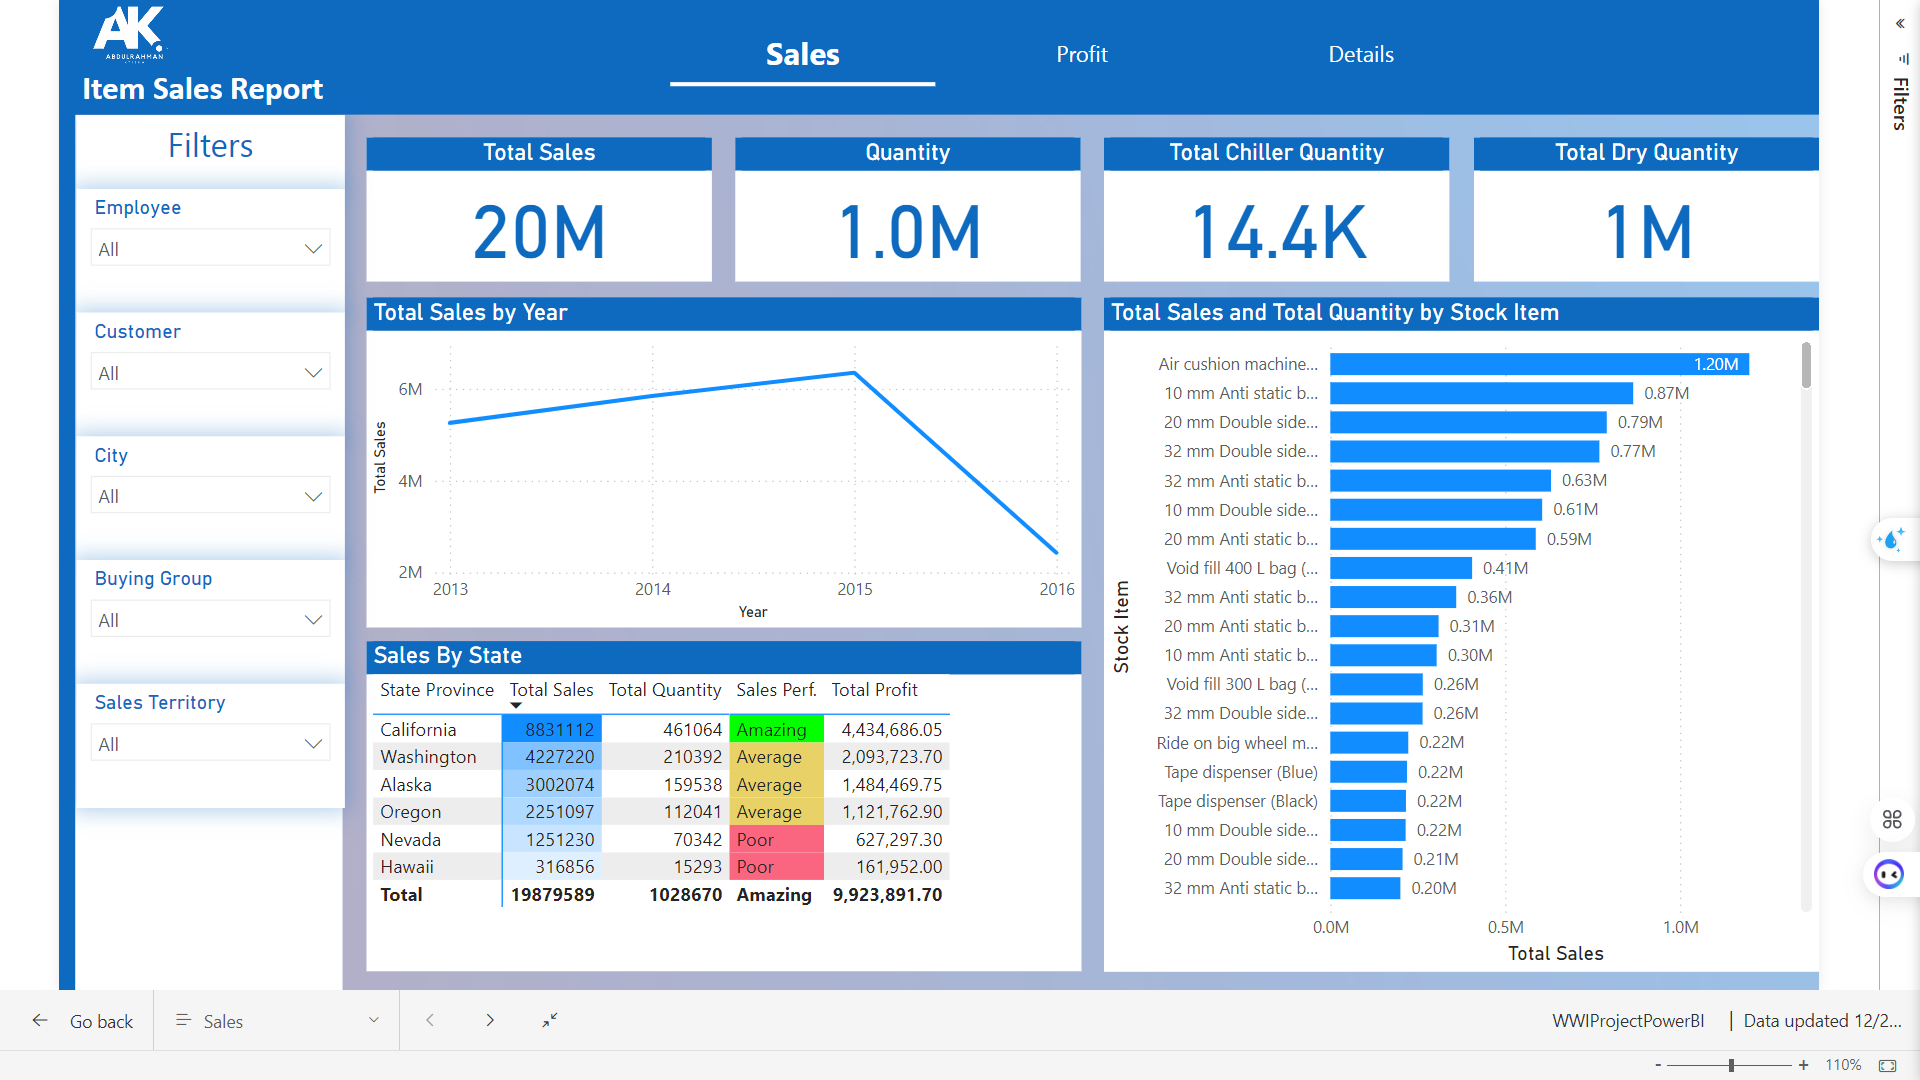

The page's visual inventory and layout, read from the dashboard file:
{"tool":"powerbi","page":{"name":"Sales","canvas":[1280,720],"ordinal":0},"visuals":[{"type":"shape","box":[0,0,1280,83.3],"z":0},{"type":"shape","box":[0,53.3,12.2,666.7],"z":1000},{"type":"shape","box":[12.2,83.3,194.4,636.7],"z":2000},{"type":"textbox","box":[12.2,43.3,252.2,40],"z":3000},{"type":"image","box":[0,0,110,53.3],"z":4000},{"type":"card","title":"Total Sales","fields":{"Values":["Sum(FactSale.Total Excluding Tax)"]},"box":[223.8,100,251.2,105],"z":5000},{"type":"card","title":"Total Dry Quantity","fields":{"Values":["Sum(FactSale.Total Dry Items)"]},"box":[1028.8,100,251.2,105],"z":6000},{"type":"card","title":"Total Chiller Quantity","fields":{"Values":["Sum(FactSale.Total Chiller Items)"]},"box":[760.4,100,251.2,105],"z":7000},{"type":"card","title":"Quantity","fields":{"Values":["Sum(FactSale.Quantity)"]},"box":[492.1,100,251.2,105],"z":8000},{"type":"textbox","box":[12.5,83.8,195,53.8],"z":9000},{"type":"lineChart","fields":{"Category":["DimDate.Date.Variation.Date Hierarchy.Year","DimDate.Date.Variation.Date Hierarchy.Quarter","DimDate.Date.Variation.Date Hierarchy.Month","DimDate.Date.Variation.Date Hierarchy.Day"],"Y":["Sum(FactSale.Total Excluding Tax)"]},"box":[223.8,216.2,520,240],"z":10000},{"type":"barChart","fields":{"Category":["DimStockItem.Stock Item"],"Y":["Sum(FactSale.Total Excluding Tax)"]},"box":[760,216.2,520,490],"z":11000},{"type":"pivotTable","title":"Sales By State","fields":{"Values":["Sum(FactSale.Total Excluding Tax)","Sum(FactSale.Quantity)","FactSale.Sales Perf.","Sum(FactSale.Profit)"],"Rows":["DimCity.State Province"]},"box":[223.8,466.2,520,240],"z":12000},{"type":"slicer","fields":{"Values":["DimEmployee.Employee"]},"box":[12.5,137.5,195,90],"z":13000},{"type":"slicer","fields":{"Values":["DimCustomers.Customer"]},"box":[12.5,227.5,195,90],"z":14000},{"type":"slicer","fields":{"Values":["DimCity.City"]},"box":[12.5,317.5,195,90],"z":15000},{"type":"slicer","fields":{"Values":["DimCustomers.Buying Group"]},"box":[12.5,407.5,195,90],"z":16000},{"type":"slicer","fields":{"Values":["DimCity.Sales Territory"]},"box":[12.5,497.5,195,90],"z":17000},{"type":"pageNavigator","box":[444.3,12.9,600,50],"z":18000}]}

Visuals, with their boxes on the page's 1280x720 design canvas (x1, y1, x2, y2). These are canvas units, not pixel positions in the 1920x1080 screenshot, which may show the page scaled, cropped or inside an application window:
shape: pyautogui.locateOnScreen(0, 0, 1280, 83)
shape: pyautogui.locateOnScreen(0, 53, 12, 720)
shape: pyautogui.locateOnScreen(12, 83, 207, 720)
textbox: pyautogui.locateOnScreen(12, 43, 264, 83)
image: pyautogui.locateOnScreen(0, 0, 110, 53)
"Total Sales" card: pyautogui.locateOnScreen(224, 100, 475, 205)
"Total Dry Quantity" card: pyautogui.locateOnScreen(1029, 100, 1280, 205)
"Total Chiller Quantity" card: pyautogui.locateOnScreen(760, 100, 1012, 205)
"Quantity" card: pyautogui.locateOnScreen(492, 100, 743, 205)
textbox: pyautogui.locateOnScreen(12, 84, 208, 138)
lineChart - DimDate.Date.Variation.Date Hierarchy.Year x DimDate.Date.Variation.Date Hierarchy.Quarter: pyautogui.locateOnScreen(224, 216, 744, 456)
barChart - DimStockItem.Stock Item x Sum(FactSale.Total Excluding Tax): pyautogui.locateOnScreen(760, 216, 1280, 706)
"Sales By State" pivotTable: pyautogui.locateOnScreen(224, 466, 744, 706)
slicer - DimEmployee.Employee: pyautogui.locateOnScreen(12, 138, 208, 228)
slicer - DimCustomers.Customer: pyautogui.locateOnScreen(12, 228, 208, 318)
slicer - DimCity.City: pyautogui.locateOnScreen(12, 318, 208, 408)
slicer - DimCustomers.Buying Group: pyautogui.locateOnScreen(12, 408, 208, 498)
slicer - DimCity.Sales Territory: pyautogui.locateOnScreen(12, 498, 208, 588)
pageNavigator: pyautogui.locateOnScreen(444, 13, 1044, 63)
